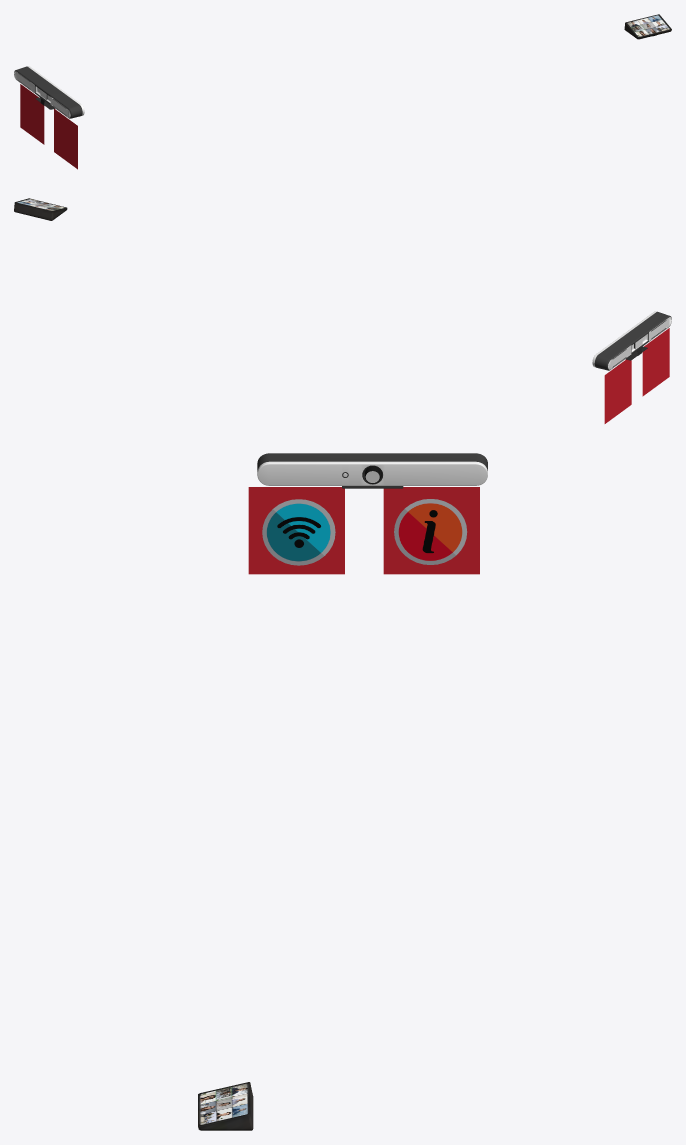
File: MediumProps_LogitechRallyBar.glb
3 views of the same model, one above another, from view 1: azimuth 30°, elevation 25°; view 2: azimuth 150°, elevation 25°; view 3: azimuth 270°, elevation 25° (orthographic). The views are drawn at different scales.
Visible parts, largest first — view 1: Highlights_LogitechRallyBar, MediumProps_LogitechRallyBar, MediumProps_TapIP; view 2: Highlights_LogitechRallyBar, MediumProps_LogitechRallyBar, MediumProps_TapIP; view 3: Highlights_LogitechRallyBar, MediumProps_LogitechRallyBar, R-Info_LogitechRallyBar, Info_LogitechRallyBar, MediumProps_TapIP.
Boxes of the visible parts, <box> form: Highlights_LogitechRallyBar: <box>20,84,77,169</box>; MediumProps_LogitechRallyBar: <box>14,66,84,118</box>; MediumProps_TapIP: <box>624,14,671,39</box>; Highlights_LogitechRallyBar: <box>604,328,669,423</box>; MediumProps_LogitechRallyBar: <box>592,311,671,370</box>; MediumProps_TapIP: <box>14,198,67,220</box>; Highlights_LogitechRallyBar: <box>248,487,479,574</box>; MediumProps_LogitechRallyBar: <box>257,453,487,488</box>; R-Info_LogitechRallyBar: <box>262,499,335,565</box>; Info_LogitechRallyBar: <box>394,499,467,564</box>; MediumProps_TapIP: <box>198,1082,253,1130</box>.
Bounding box in the file's own units: 4.18 × 0.405 × 0.8944.
12 materials, 4 textured.
